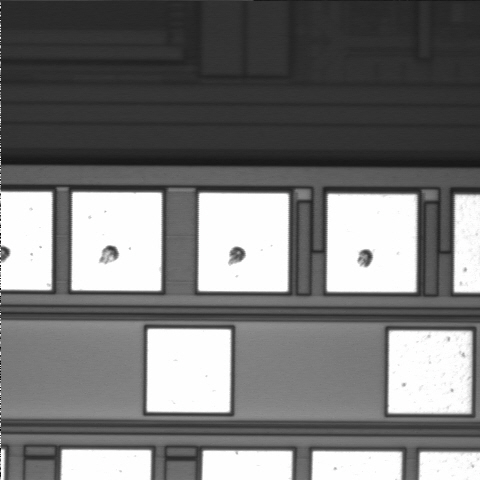pad: (198, 193, 289, 292), (72, 192, 162, 291), (327, 194, 417, 292), (147, 329, 231, 412), (388, 331, 471, 413)
